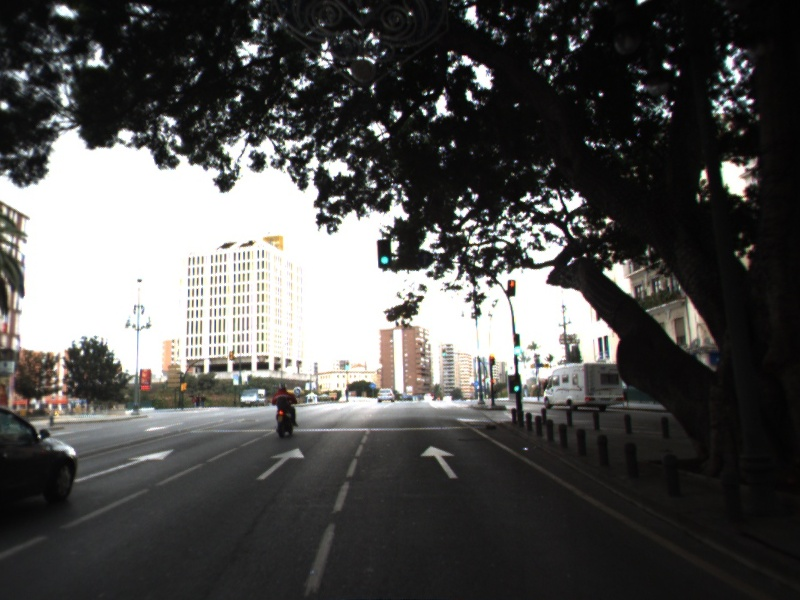STRAIGHT: (72, 447, 176, 483), (254, 445, 307, 482), (418, 443, 461, 481)
